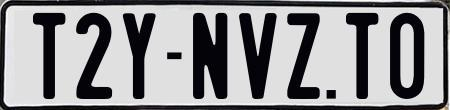0: (390, 13, 430, 104)
2: (74, 10, 111, 96)
N: (193, 12, 232, 102)
T: (346, 10, 384, 102), (31, 13, 68, 105)
V: (238, 12, 278, 102)
Y: (120, 10, 153, 100)
Z: (285, 10, 318, 96)
